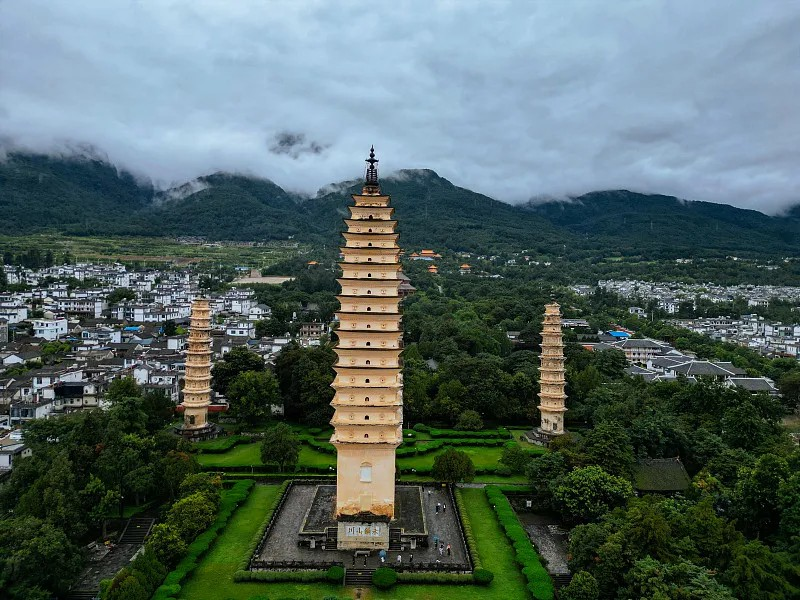ThreePagoda: (328, 145, 402, 520)
